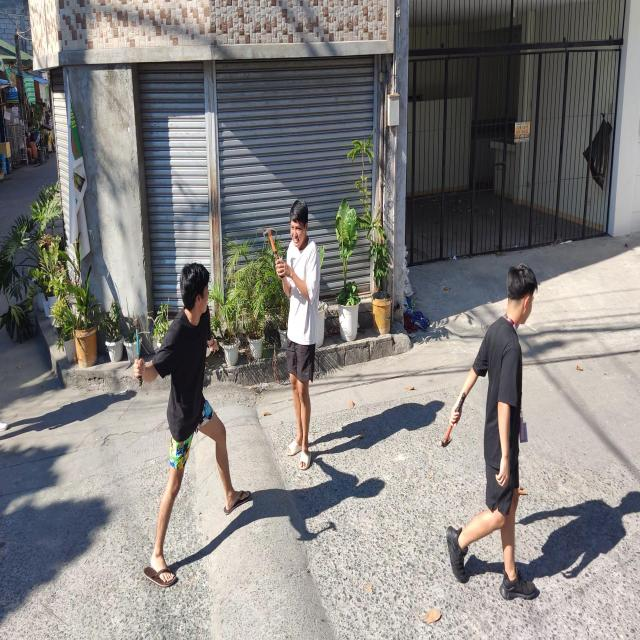hammer: (439, 392, 466, 448), (263, 228, 285, 278), (134, 317, 142, 386)
